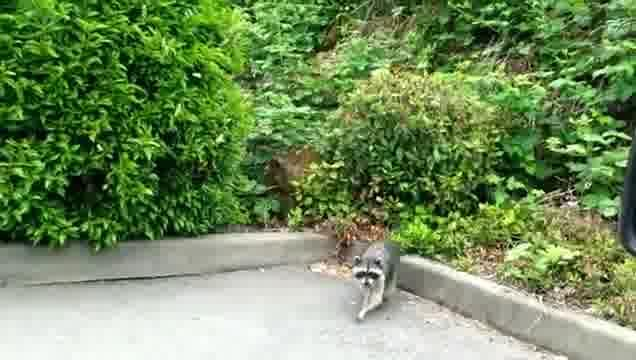raccoon: (350, 235, 404, 326)
